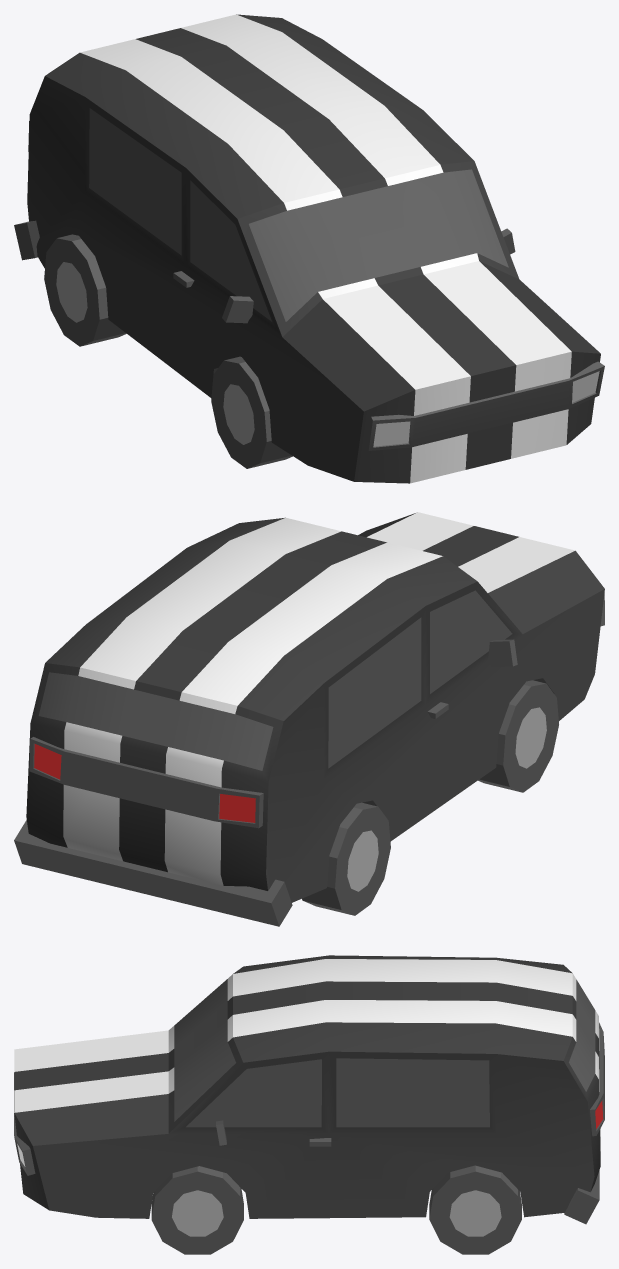
The model's file is SM_Car_07_04.FBX.
3 renders of one model, top to bottom at view 1: azimuth 30°, elevation 25°; view 2: azimuth 150°, elevation 25°; view 3: azimuth 270°, elevation 25°, orthographic. The views are drawn at different scales.
Visible parts, largest first — view 1: SM_Car_07_04, SM_Wheel_RBack001, SM_Wheel_LFront001; view 2: SM_Car_07_04, SM_Wheel_RBack001, SM_Wheel_LFront001; view 3: SM_Car_07_04, SM_Wheel_LBack001, SM_Wheel_LFront002.
Part boxes in pixels (box(x1,y1,x2,y2)): SM_Car_07_04: box(14, 14, 604, 483); SM_Wheel_RBack001: box(44, 234, 126, 346); SM_Wheel_LFront001: box(211, 356, 292, 468); SM_Car_07_04: box(14, 512, 604, 926); SM_Wheel_RBack001: box(302, 802, 390, 915); SM_Wheel_LFront001: box(478, 680, 558, 792); SM_Car_07_04: box(14, 955, 604, 1224); SM_Wheel_LBack001: box(429, 1165, 521, 1254); SM_Wheel_LFront002: box(151, 1166, 243, 1254).
Size of the model in its own units: 1.49 by 1.21 by 3.16.
1 material, 1 textured.
